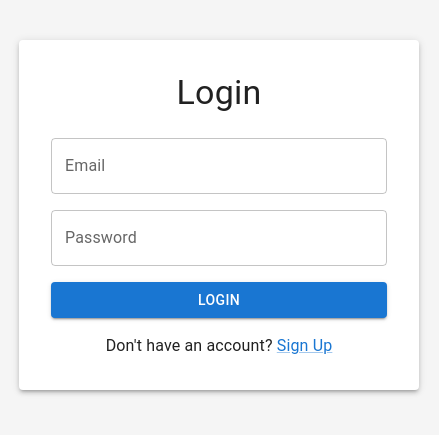
Test: LoginForm › shows validation errors when submitted empty
This screenshot has width=439, height=435.
Click the button "Login" at (219, 300), box [51,282,387,318]
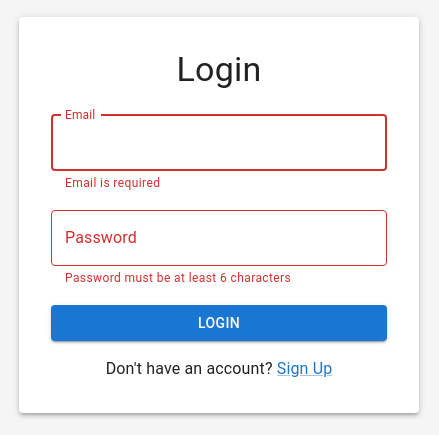
Expected: the text "Email is required" is shown, [65,176,160,190]
Expected: the text "Password must be at least 6 characters" is shown, [65,271,291,285]
